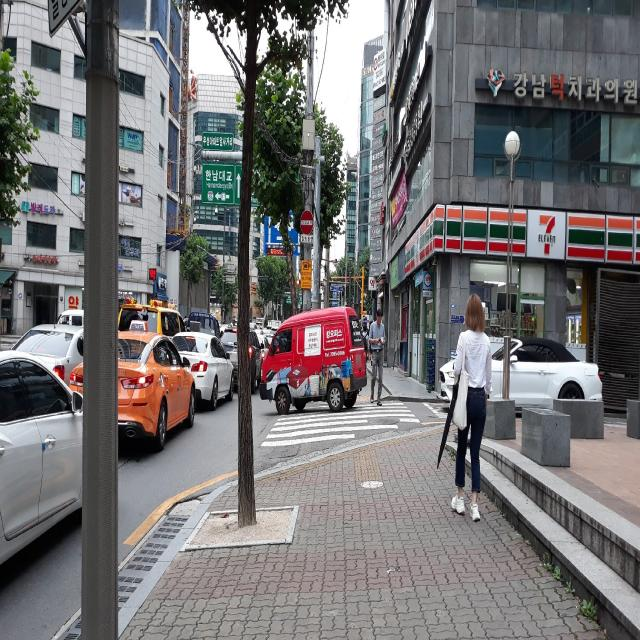횡단보도: (260, 402, 421, 448)
